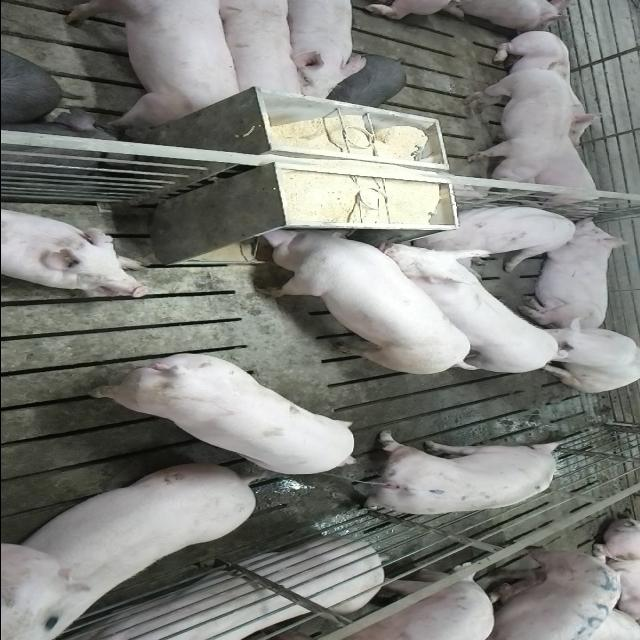Feeding: (250, 218, 476, 370)
Lateral_lying: (56, 540, 502, 640)
Sitting: (420, 203, 578, 270), (520, 318, 638, 393)
Standing: (8, 460, 264, 634), (80, 347, 357, 473), (372, 242, 564, 378), (58, 2, 248, 130), (342, 432, 566, 518), (465, 549, 626, 640), (463, 63, 569, 193), (212, 3, 311, 103), (282, 1, 364, 102)
Sternal_lying: (484, 31, 610, 146), (0, 203, 150, 295), (511, 215, 629, 329), (520, 138, 605, 212)
